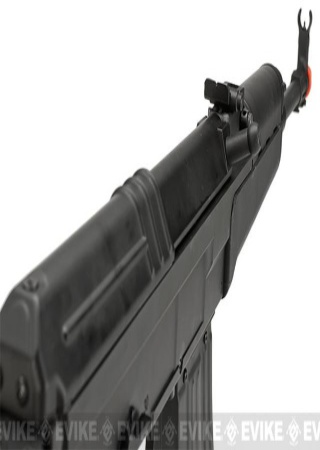rifle: (1, 4, 315, 449)
